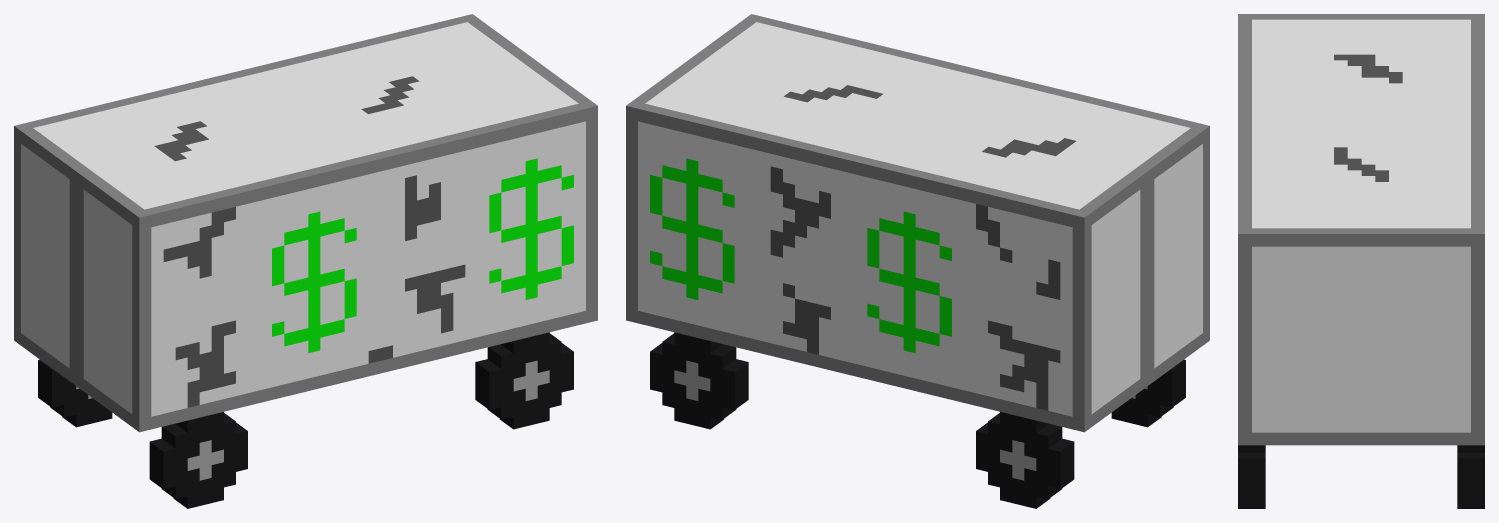
The model's file is container1_health2.obj.
3 views of the same model, side by side, from view 1: azimuth 30°, elevation 25°; view 2: azimuth 150°, elevation 25°; view 3: azimuth 270°, elevation 25° (orthographic).
Visible parts, largest first — view 1: container1_health2; view 2: container1_health2; view 3: container1_health2.
Part boxes in pixels (x1=…): container1_health2: x1=14, y1=14, x2=597, y2=508; container1_health2: x1=626, y1=14, x2=1209, y2=508; container1_health2: x1=1238, y1=14, x2=1484, y2=508.
Bounding box in the file's own units: 38 × 24 × 18.
1 material, 1 textured.
